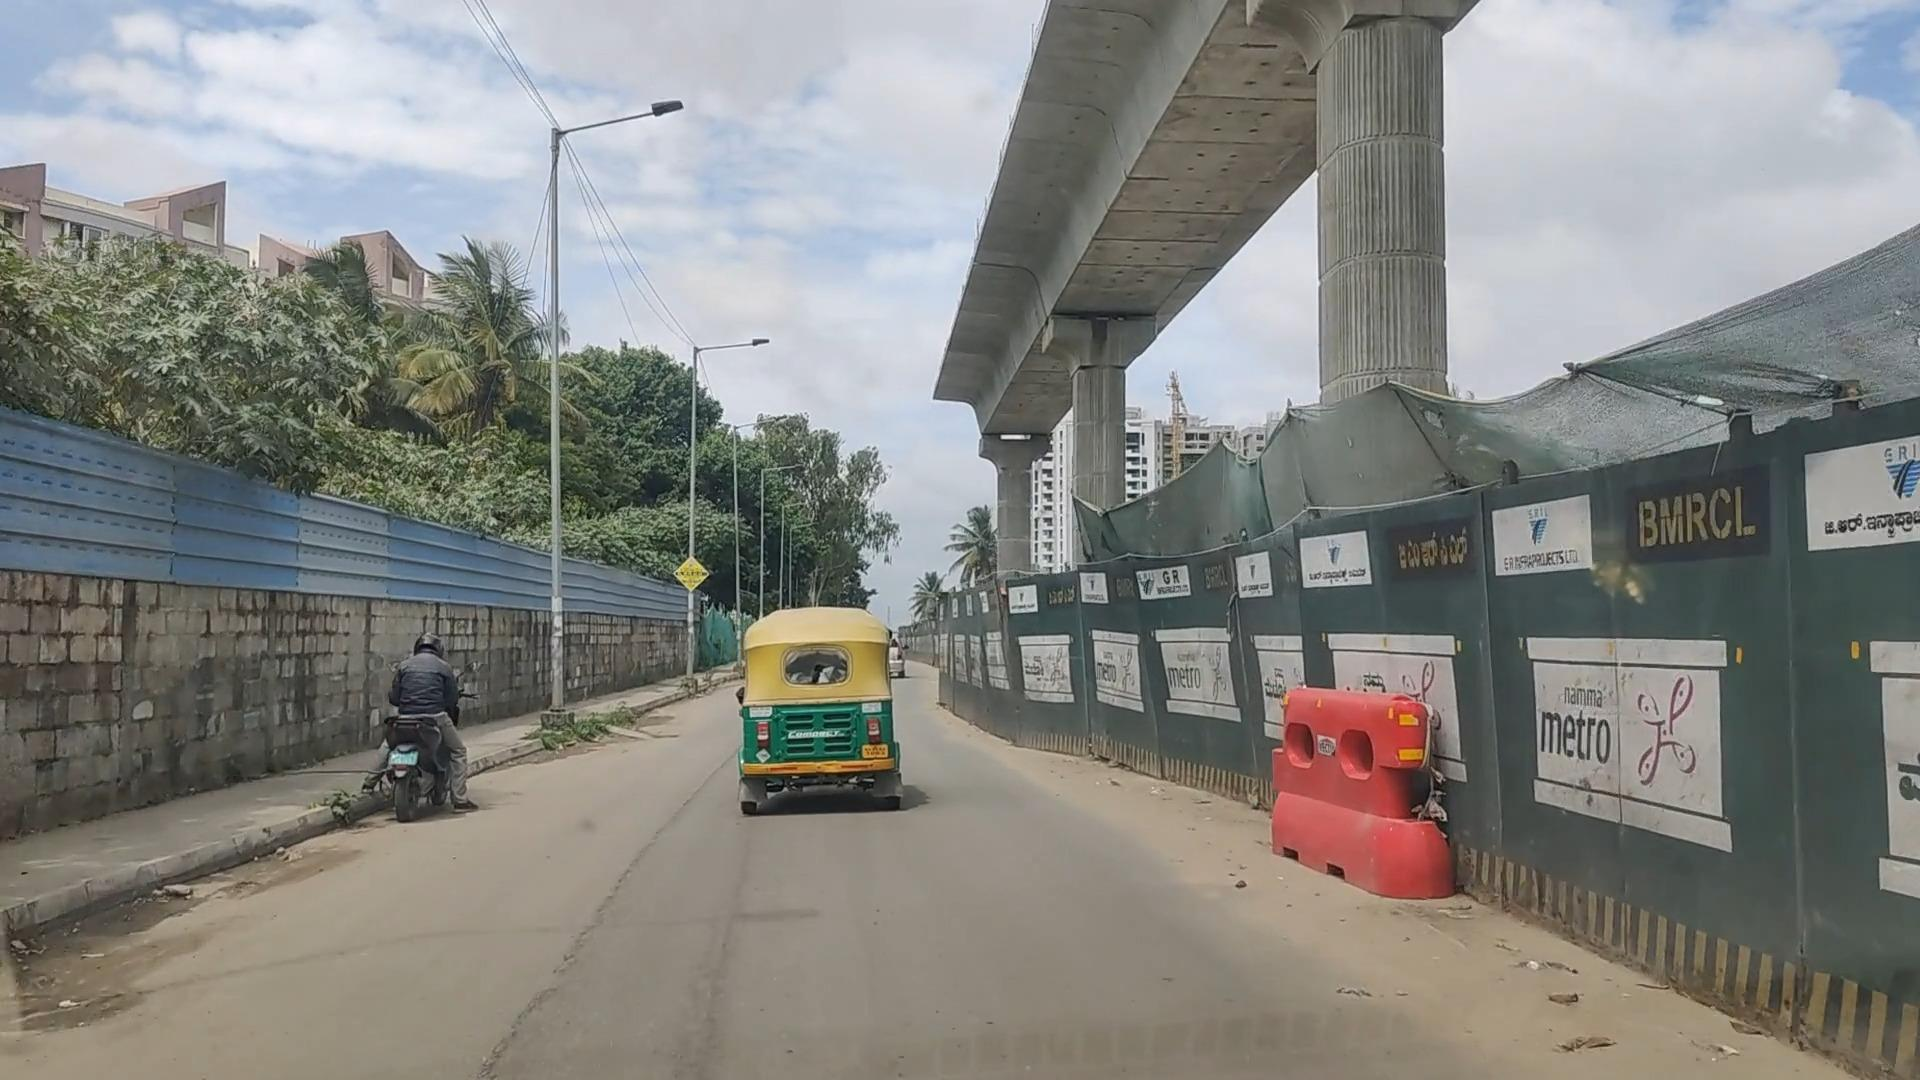LMV: (727, 589, 905, 845), (363, 615, 475, 823)
